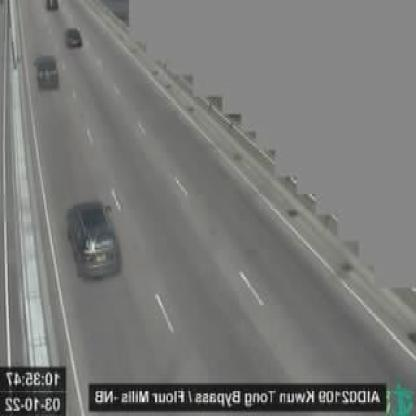Car: (66, 203, 125, 277), (35, 54, 60, 86), (64, 26, 83, 47)
